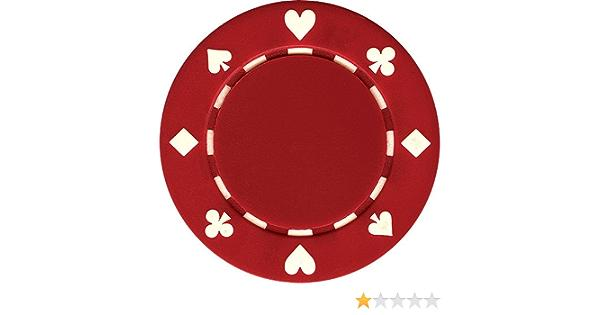chip-red: (161, 1, 439, 282)
